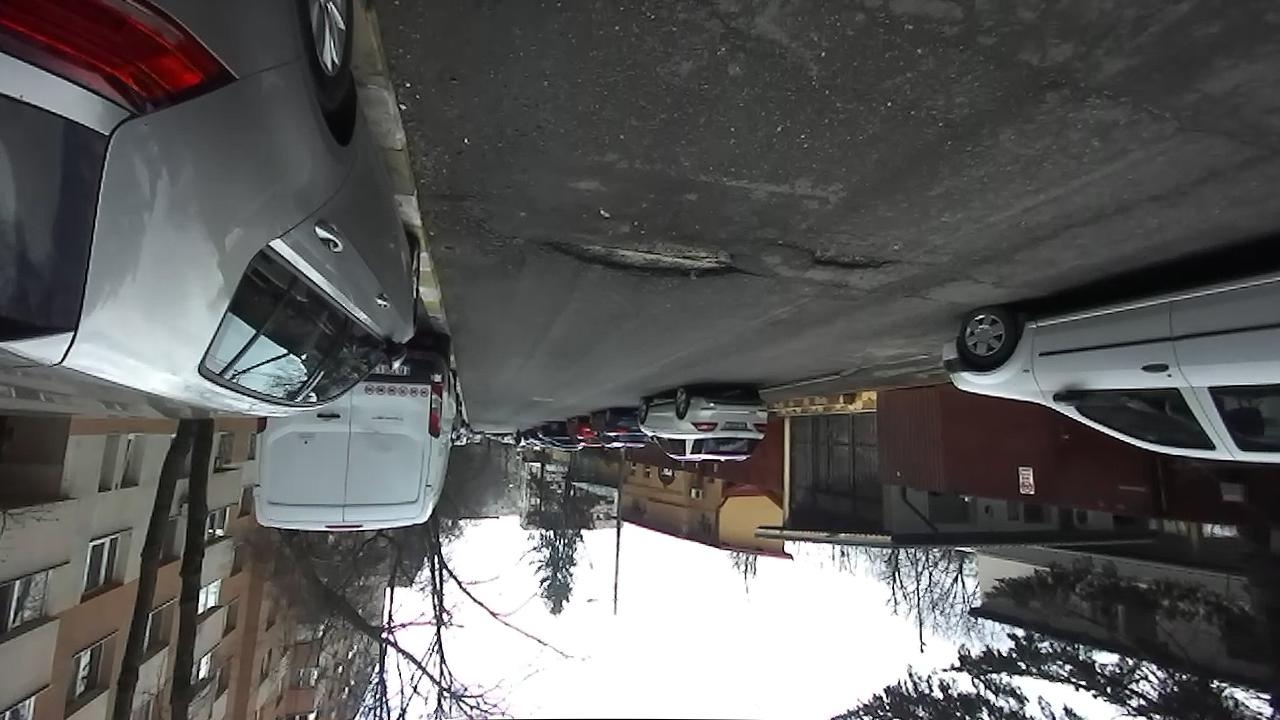pothole: (534, 232, 761, 281), (783, 240, 905, 275)
